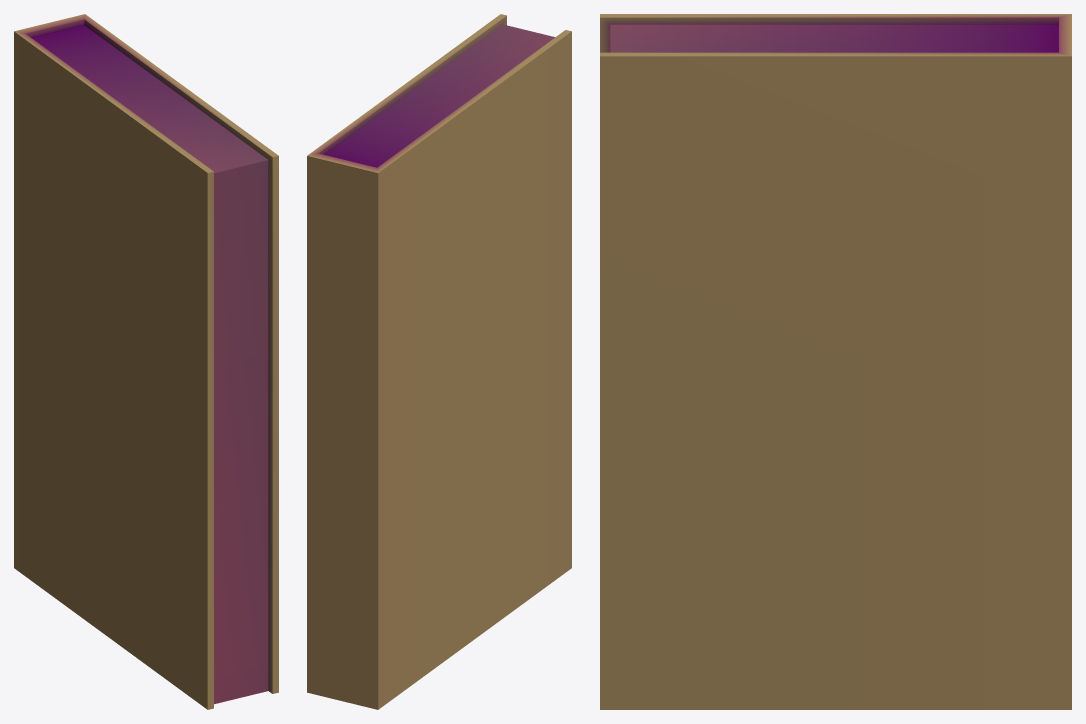
The picture shows the model from 3 angles, left to right: view 1: azimuth 30°, elevation 25°; view 2: azimuth 150°, elevation 25°; view 3: azimuth 270°, elevation 25°; orthographic projection. The views are drawn at different scales.
Visible parts, largest first — view 1: panel; view 2: panel; view 3: panel.
Part boxes in pixels (x1,y1,x2,y2): panel: (14,14,278,709); panel: (307,14,571,709); panel: (600,14,1071,709).
Size of the model in its own units: 0.0388 by 0.28 by 0.1832.
